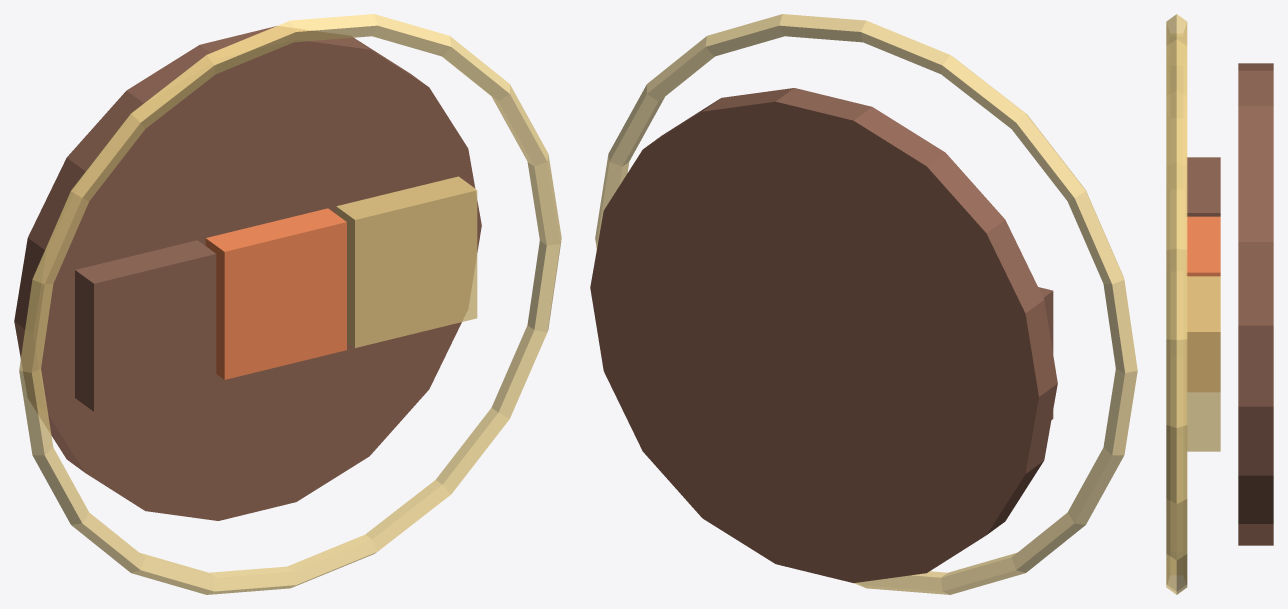
Rendered from 04_biome_recolor_overlay_4.glb.
3 views of the same model, side by side, from view 1: azimuth 30°, elevation 25°; view 2: azimuth 150°, elevation 25°; view 3: azimuth 270°, elevation 25° (orthographic). The views are drawn at different scales.
Visible parts, largest first — view 1: palette_base, recolor_ring, swatch_base, swatch_accent, swatch_glow; view 2: palette_base, recolor_ring; view 3: palette_base, recolor_ring, swatch_glow, swatch_accent, swatch_base.
Part boxes in pixels (x1,y1,x2,y2): palette_base: [14, 26, 481, 520]; recolor_ring: [19, 14, 561, 594]; swatch_base: [75, 240, 216, 411]; swatch_accent: [205, 208, 346, 379]; swatch_glow: [336, 176, 477, 347]; palette_base: [590, 88, 1057, 583]; recolor_ring: [595, 14, 1137, 594]; palette_base: [1238, 63, 1273, 545]; recolor_ring: [1166, 14, 1187, 594]; swatch_glow: [1187, 276, 1220, 451]; swatch_accent: [1186, 216, 1220, 391]; swatch_base: [1186, 157, 1220, 216].
Size of the model in its own units: 1.33 by 1.33 by 0.2438.
